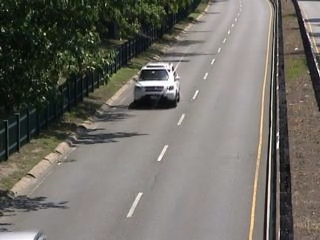car: (127, 59, 184, 110)
